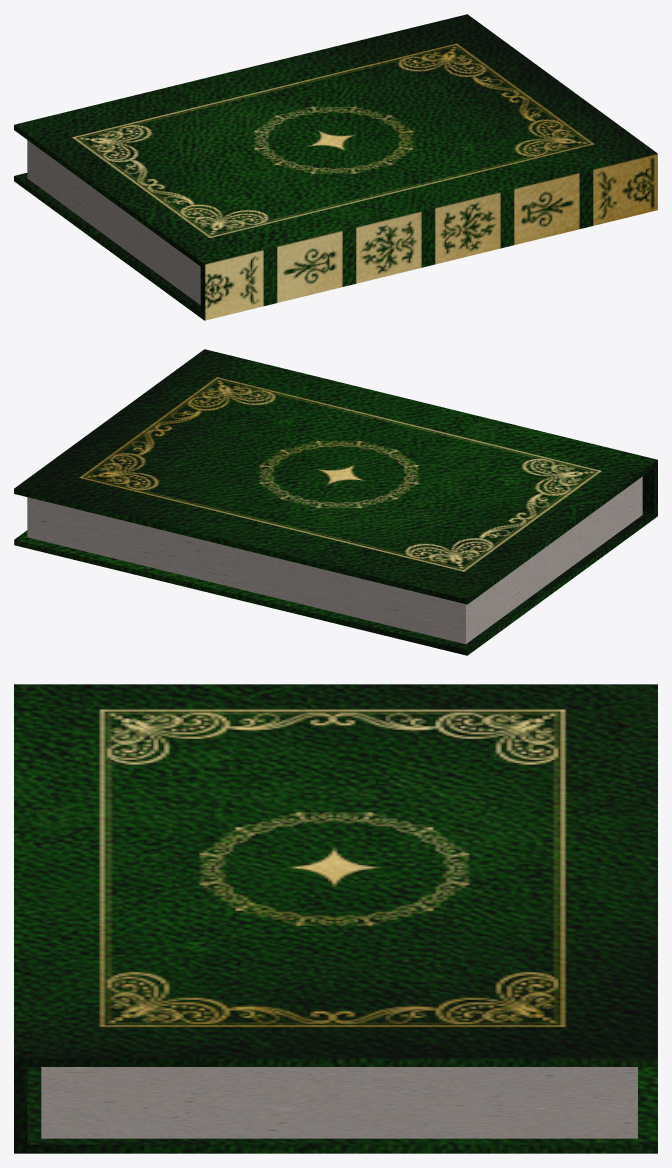
Rendered from Livre_Vert_Low_3.gltf.
3 views of the same model, one above another, from view 1: azimuth 30°, elevation 25°; view 2: azimuth 150°, elevation 25°; view 3: azimuth 270°, elevation 25° (orthographic). The views are drawn at different scales.
Visible parts, largest first — view 1: Cover, Book; view 2: Cover, Book; view 3: Cover, Book.
Part boxes in pixels (left/top/right/bottom): Cover: left=14, top=14, right=657, bottom=320; Book: left=27, top=140, right=200, bottom=304; Cover: left=14, top=349, right=657, bottom=655; Book: left=27, top=476, right=642, bottom=644; Cover: left=14, top=684, right=657, bottom=1153; Book: left=41, top=1067, right=637, bottom=1138.
Size of the model in its own units: 0.3076 by 0.0366 by 0.224.
Materials: 2 (2 with a texture image).
